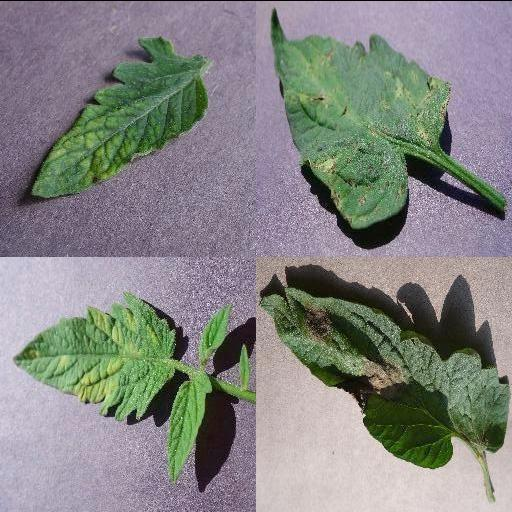Healthy: (166, 378, 210, 480)
Late Blight: (257, 286, 512, 469)
Leaf Mold: (10, 290, 176, 422)
Mosaic Virus: (29, 33, 207, 197)
Septoria: (268, 7, 452, 231)
